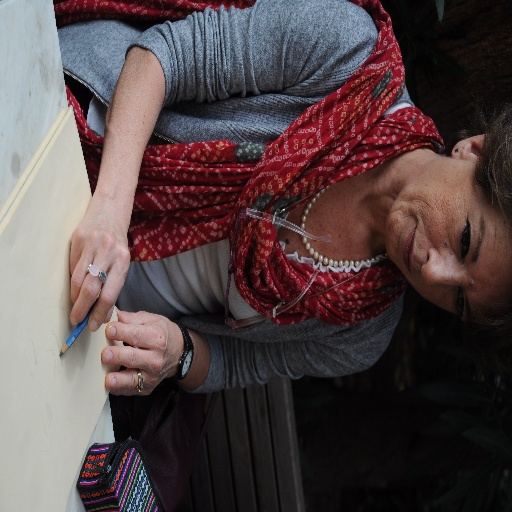hand: (86, 307, 185, 402), (70, 196, 131, 334)
